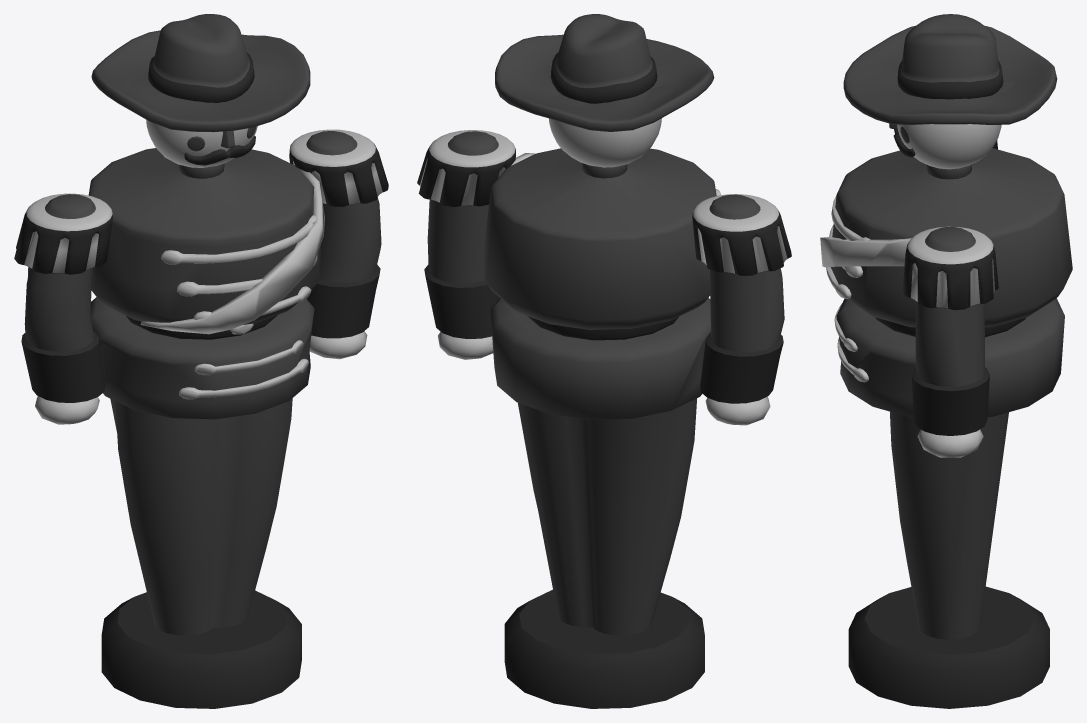
The model's file is Soldier_BN_04.fbx.
The picture shows the model from 3 angles, left to right: view 1: azimuth 30°, elevation 25°; view 2: azimuth 150°, elevation 25°; view 3: azimuth 270°, elevation 25°; orthographic projection.
Parts seen in each view (by area): view 1: Soldier_BN_04.001; view 2: Soldier_BN_04.001; view 3: Soldier_BN_04.001.
Boxes of the visible parts, left/top/right/bottom form: Soldier_BN_04.001: left=14, top=14, right=388, bottom=708; Soldier_BN_04.001: left=417, top=14, right=791, bottom=708; Soldier_BN_04.001: left=820, top=14, right=1072, bottom=708.
Size of the model in its own units: 5.4 by 9.13 by 3.27.
